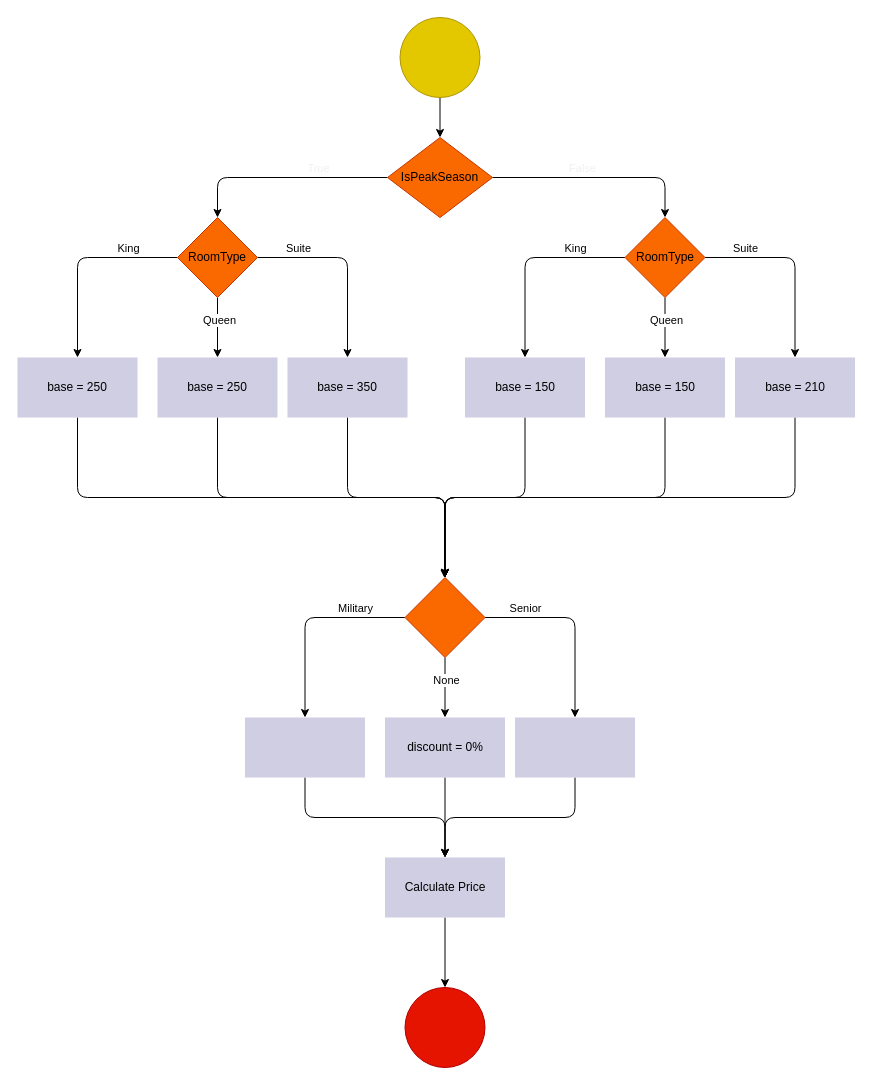
The diagram is 872 pixels wide and 1085 high, and some of its shapes have lost their labels. Each missing label, with the box of its shape:
Begin: (399, 16, 480, 98)
Discount: (404, 576, 485, 658)
discount = 10%: (514, 717, 634, 777)
discount = 20%: (244, 717, 364, 777)
End: (404, 986, 485, 1068)
